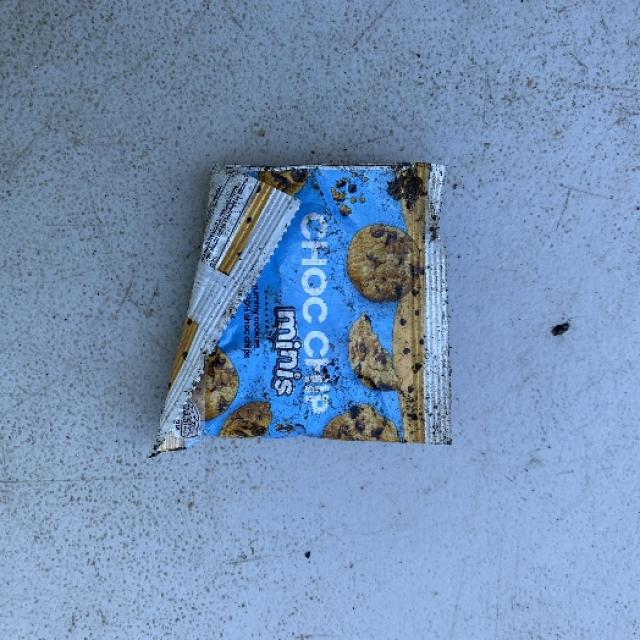inorganic: (145, 160, 458, 450)
